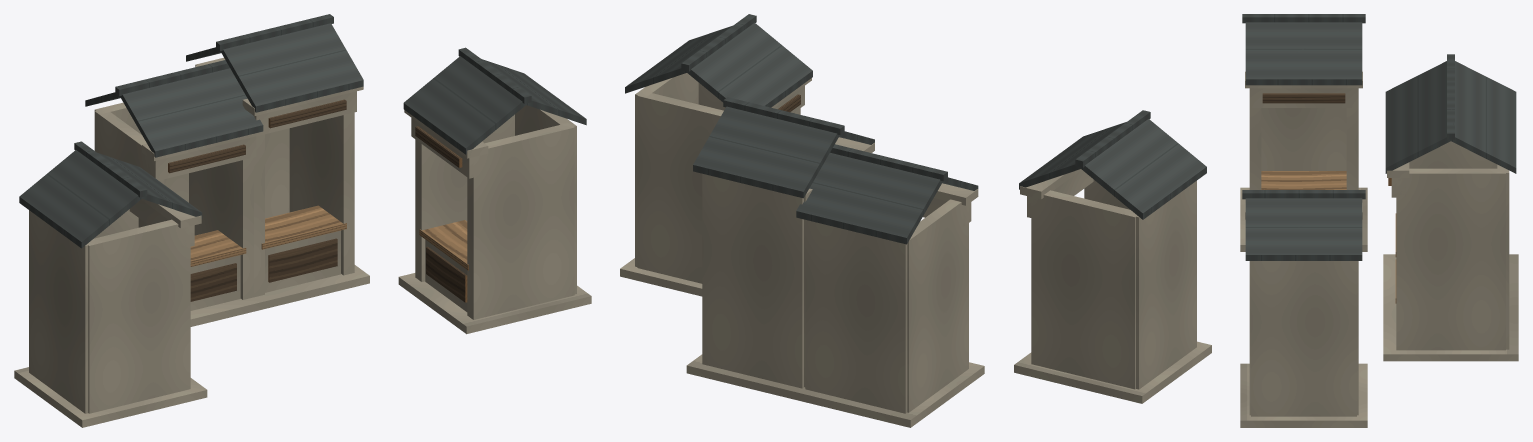
The model's file is garapan.glb.
3 views of the same model, side by side, from view 1: azimuth 30°, elevation 25°; view 2: azimuth 150°, elevation 25°; view 3: azimuth 270°, elevation 25° (orthographic). The views are drawn at different scales.
Parts seen in each view (by area): view 1: garapan; view 2: garapan; view 3: garapan.
Boxes of the visible parts, x1,y1,x2,y2 form: garapan: (14,14,591,427); garapan: (620,14,1211,427); garapan: (1240,14,1518,427).
Bounding box in the file's own units: 5.51 × 2.5 × 2.78.
1 material, 1 textured.
